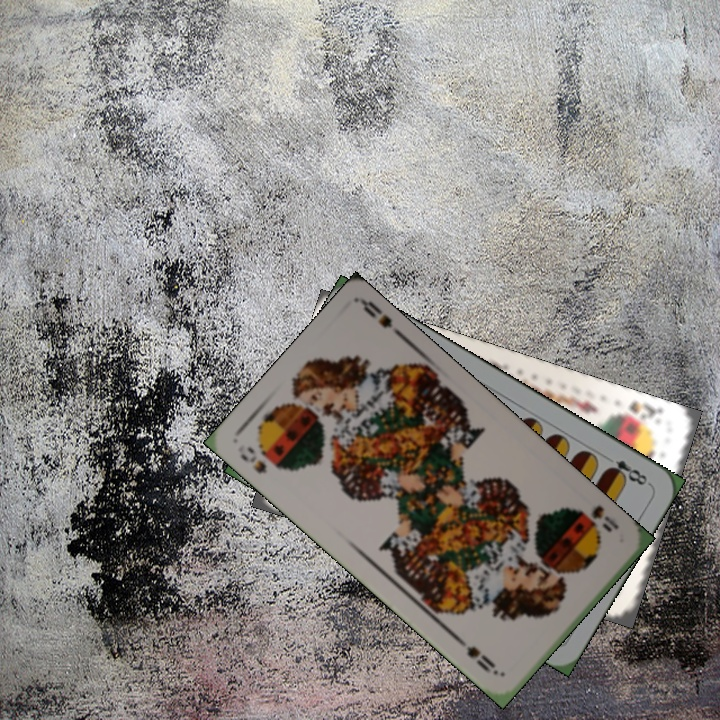E8: (601, 451, 653, 488)
SK: (611, 397, 666, 427)
SO: (587, 501, 622, 535), (236, 442, 269, 476)
